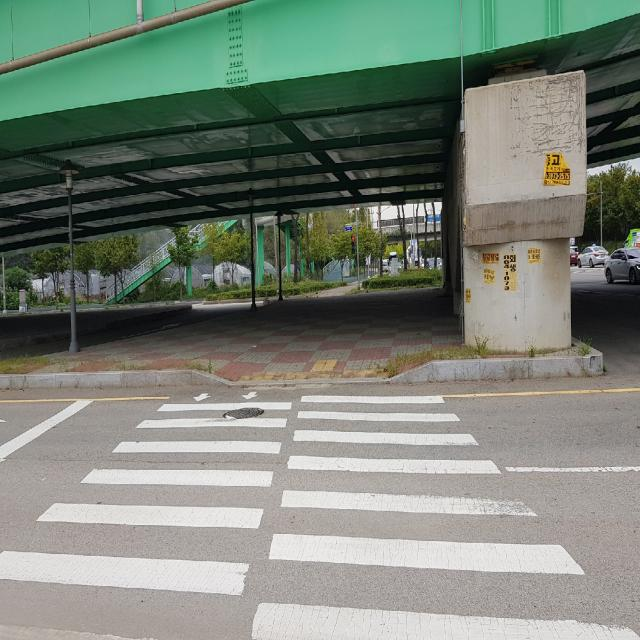빨간불: (352, 236, 354, 253)
횡단보도: (0, 390, 640, 640)
